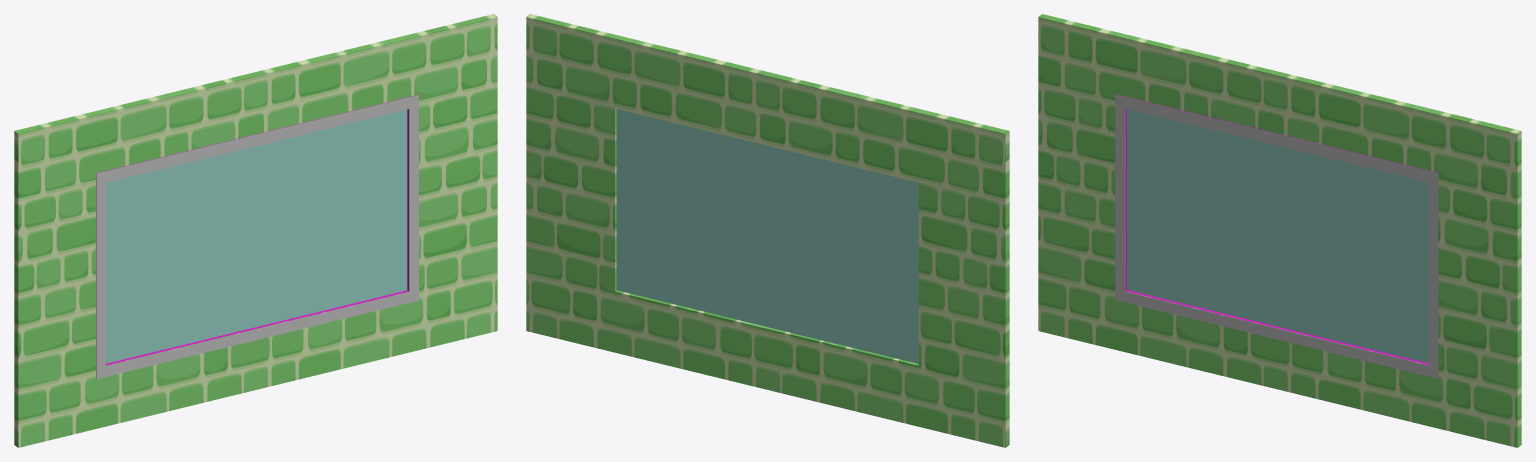
The model's file is PARED VENTANA CHICA CAFETERIA.fbx.
3 views of the same model, side by side, from view 1: azimuth 30°, elevation 25°; view 2: azimuth 150°, elevation 25°; view 3: azimuth 330°, elevation 25° (orthographic).
Parts seen in each view (by area): view 1: PARED LADO DE PUERTA VENTANA; view 2: PARED LADO DE PUERTA VENTANA; view 3: PARED LADO DE PUERTA VENTANA.
Boxes of the visible parts, x1,y1,x2,y2 form: PARED LADO DE PUERTA VENTANA: (14, 14, 497, 447); PARED LADO DE PUERTA VENTANA: (526, 14, 1009, 447); PARED LADO DE PUERTA VENTANA: (1038, 14, 1521, 447).
Bounding box in the file's own units: 4189 × 2622 × 67.98.
